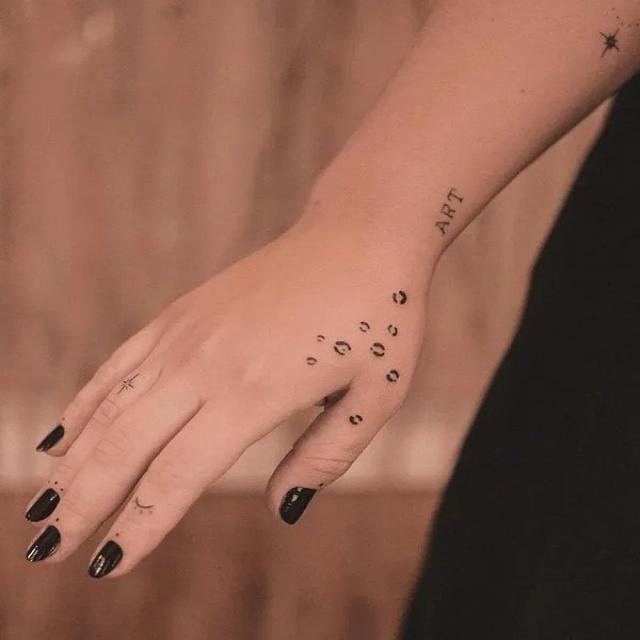no-gloves: (23, 202, 464, 579)
